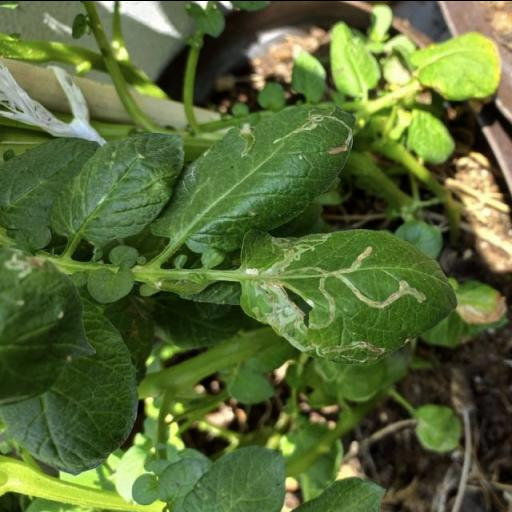Leaf Miner: (150, 102, 362, 255), (236, 226, 456, 359)
